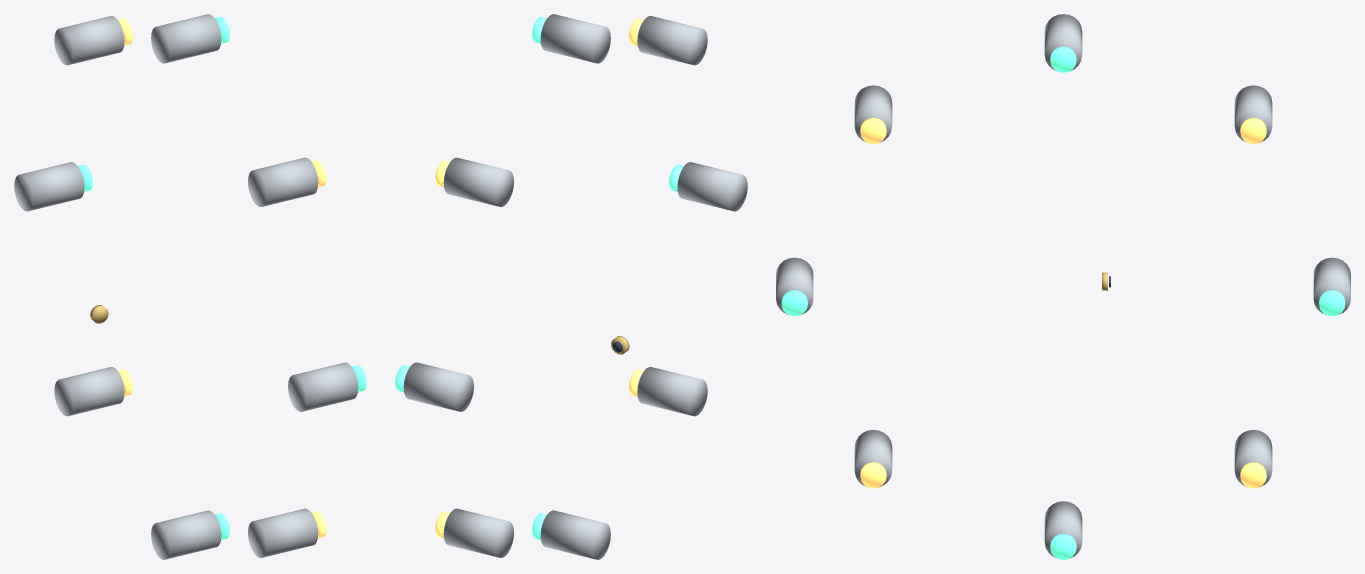
File: L85_09_StationApproachBeaconCluster_Fitted.fbx
3 views of the same model, side by side, from view 1: azimuth 30°, elevation 25°; view 2: azimuth 150°, elevation 25°; view 3: azimuth 270°, elevation 25° (orthographic).
Visible parts, largest first — view 1: L85_StationApproachBeaconCluster_ANIM_STATION_BEACON_ROTATIO (×3); view 2: L85_StationApproachBeaconCluster_ANIM_STATION_BEACON_ROTATIO (×3); view 3: L85_StationApproachBeaconCluster_ANIM_STATION_BEACON_ROTATIO (×3).
Part boxes in pixels (x1,y1,x2,y2): L85_StationApproachBeaconCluster_ANIM_STATION_BEACON_ROTATIO (×3): (14, 14, 366, 559); L85_StationApproachBeaconCluster_ANIM_STATION_BEACON_ROTATIO (×3): (395, 14, 747, 559); L85_StationApproachBeaconCluster_ANIM_STATION_BEACON_ROTATIO (×3): (776, 14, 1350, 559).
Size of the model in its own units: 8.69 by 39.84 by 39.84.
